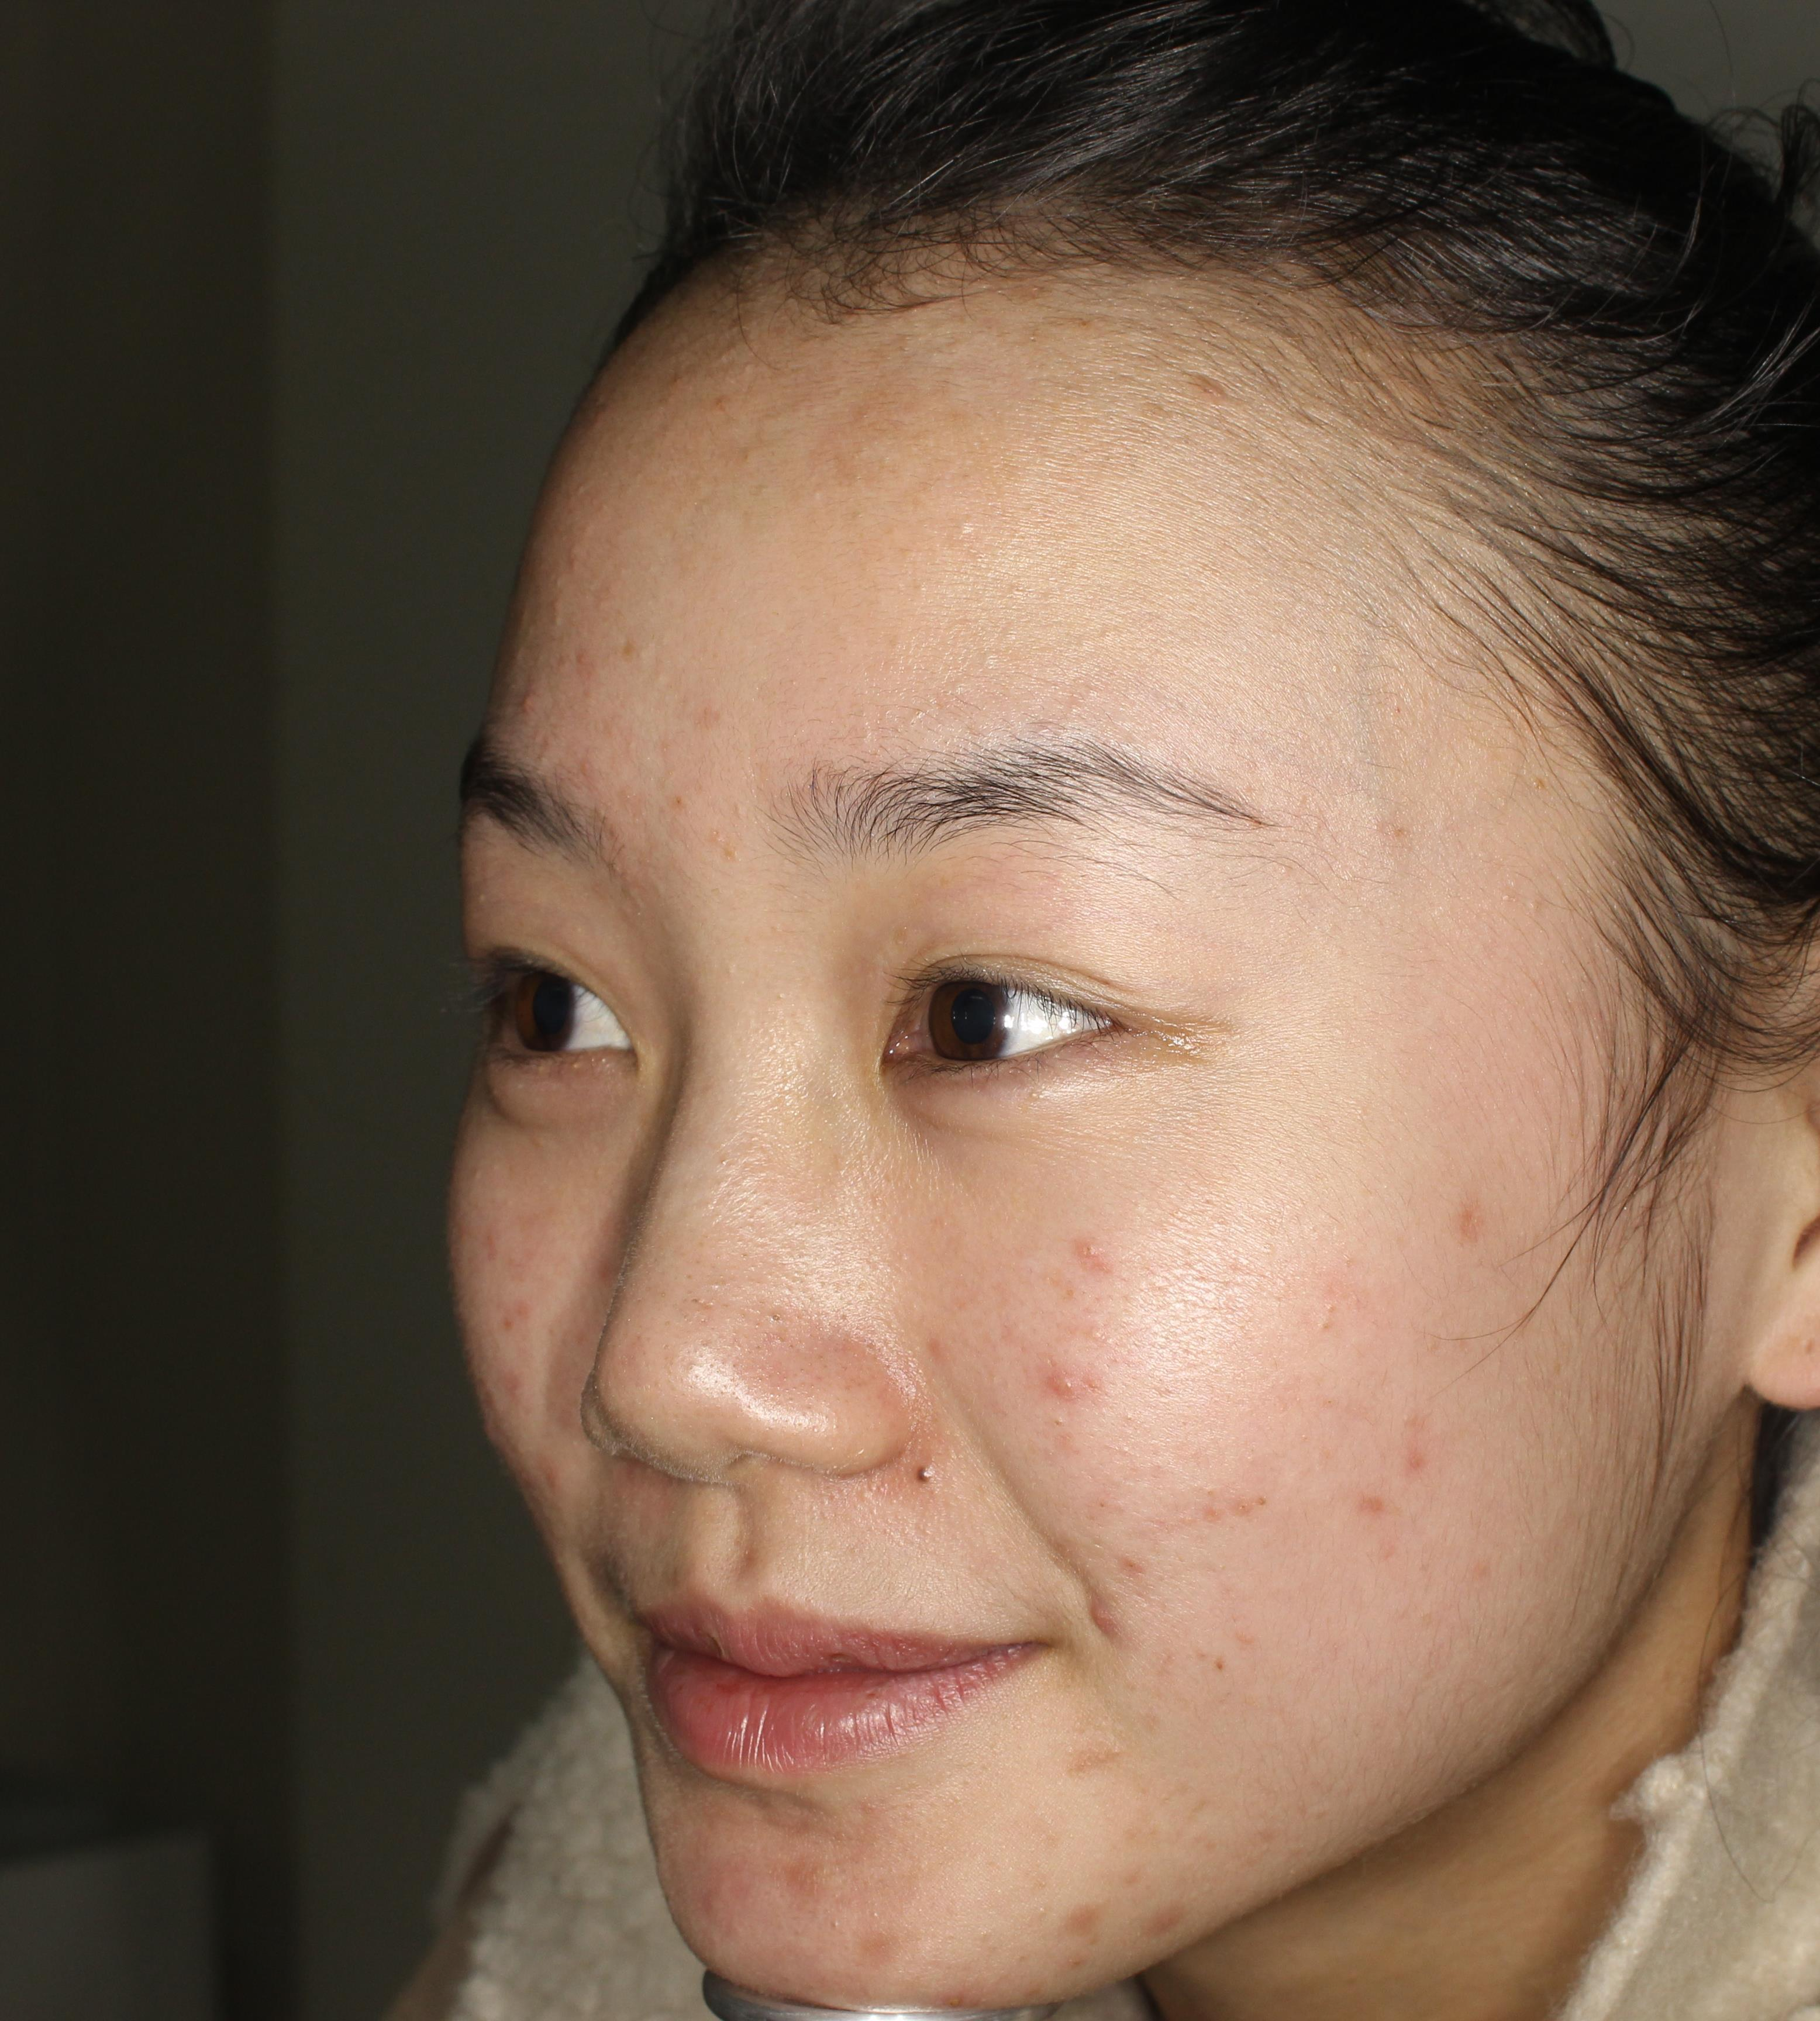fore: (1028, 1329, 1117, 1433), (771, 1845, 840, 1947), (1135, 1886, 1216, 1956), (1063, 1199, 1126, 1289), (849, 1907, 910, 1993), (1435, 1176, 1511, 1245), (1063, 1881, 1109, 1953)
